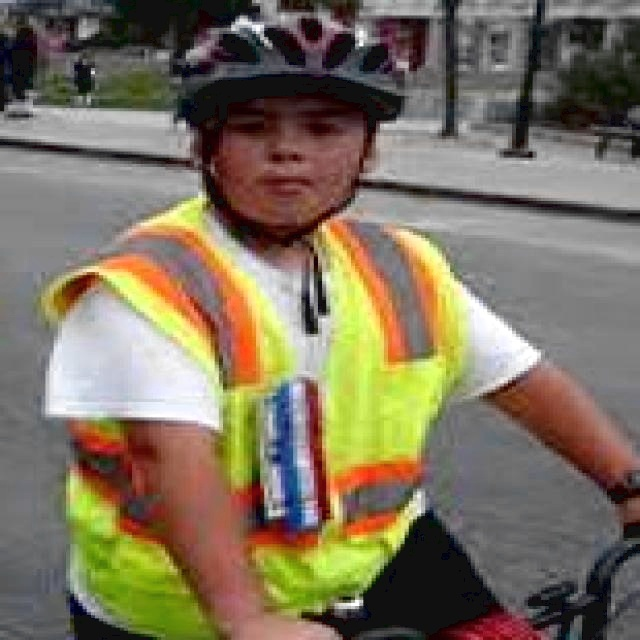Con_Chaleco: (63, 215, 449, 618)
